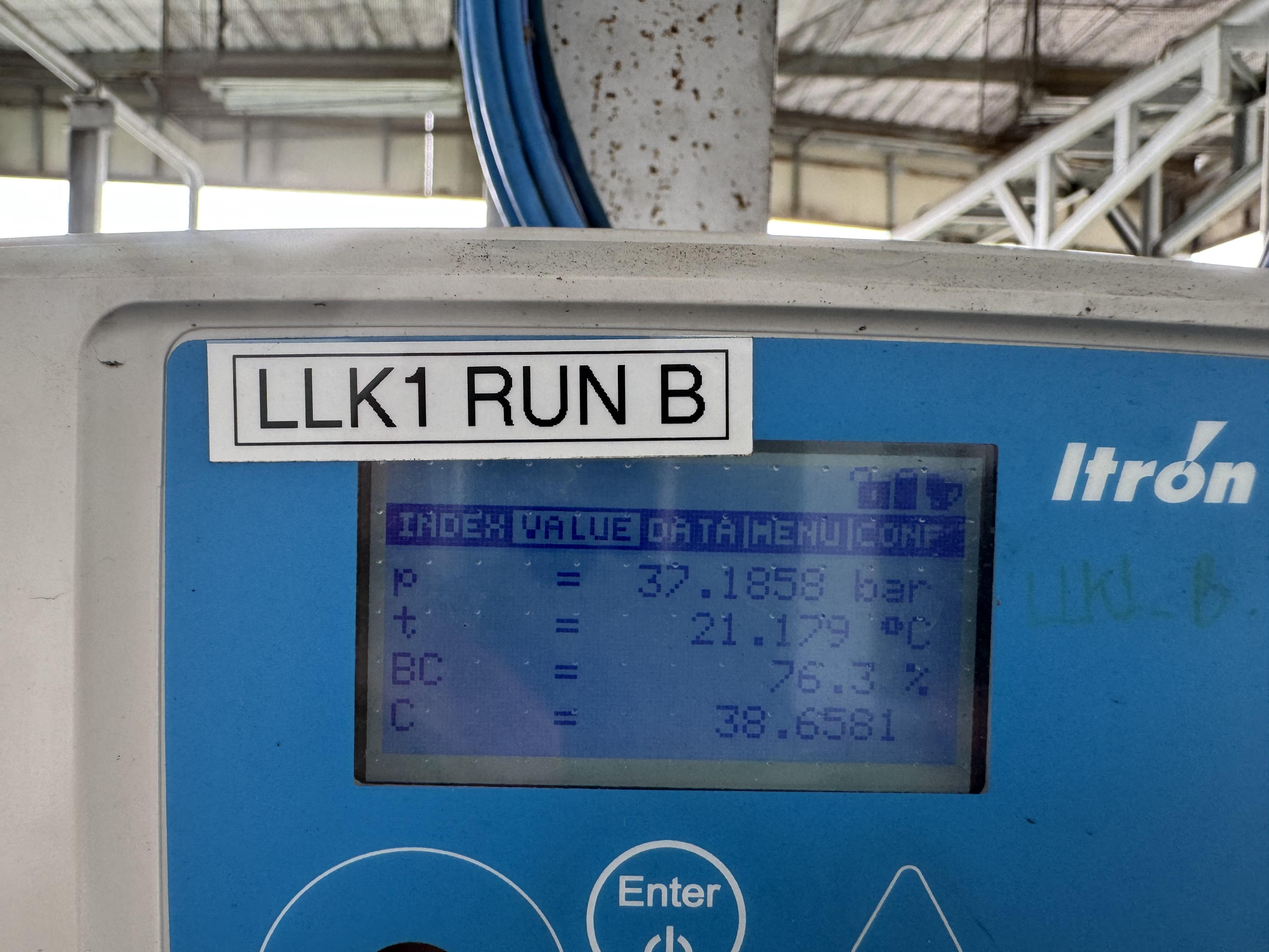digital_screen: (356, 436, 998, 793)
